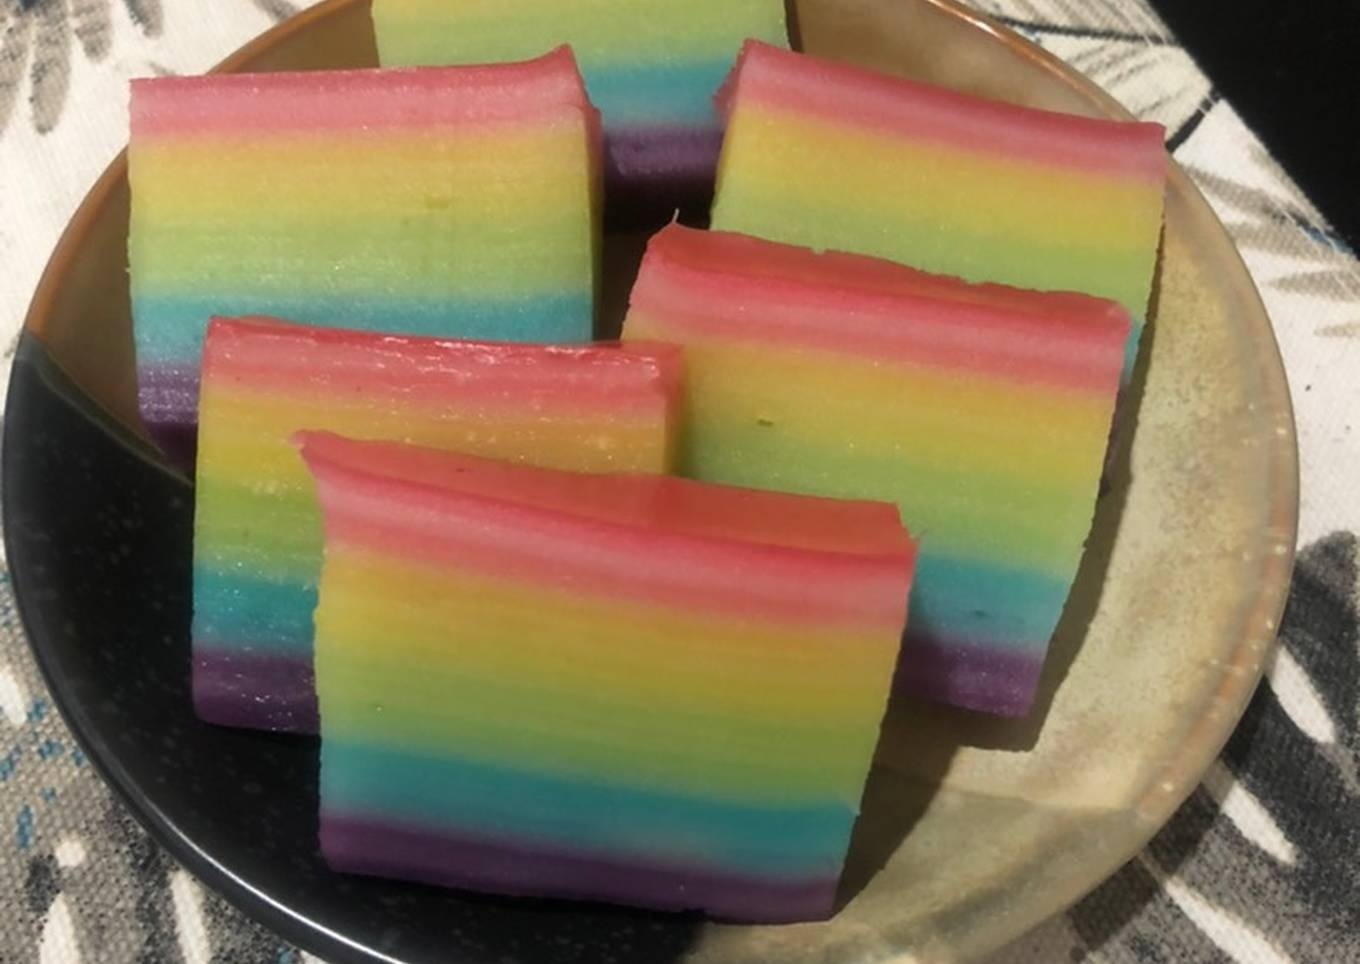kue_lapis_pelangi: (295, 443, 919, 927), (121, 42, 607, 428)
